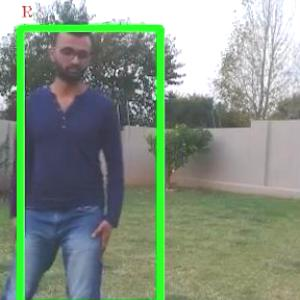follow: (22, 23, 126, 299)
